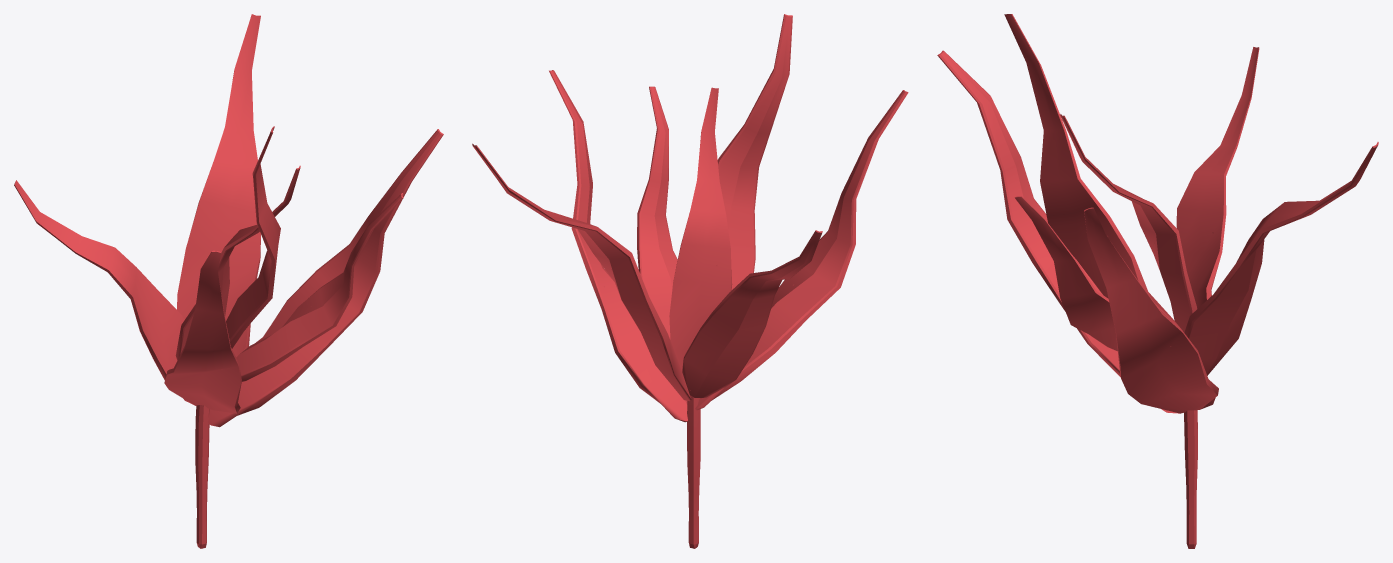
File: FireFlower.fbx
3 views of the same model, side by side, from view 1: azimuth 30°, elevation 25°; view 2: azimuth 150°, elevation 25°; view 3: azimuth 270°, elevation 25° (orthographic). The views are drawn at different scales.
Parts seen in each view (by area): view 1: pCube109; view 2: pCube109; view 3: pCube109.
Boxes of the visible parts, left/top/right/bottom form: pCube109: left=14, top=14, right=443, bottom=548; pCube109: left=472, top=14, right=908, bottom=548; pCube109: left=937, top=14, right=1378, bottom=548.
Size of the model in its own units: 0.1062 by 0.1393 by 0.1055.
